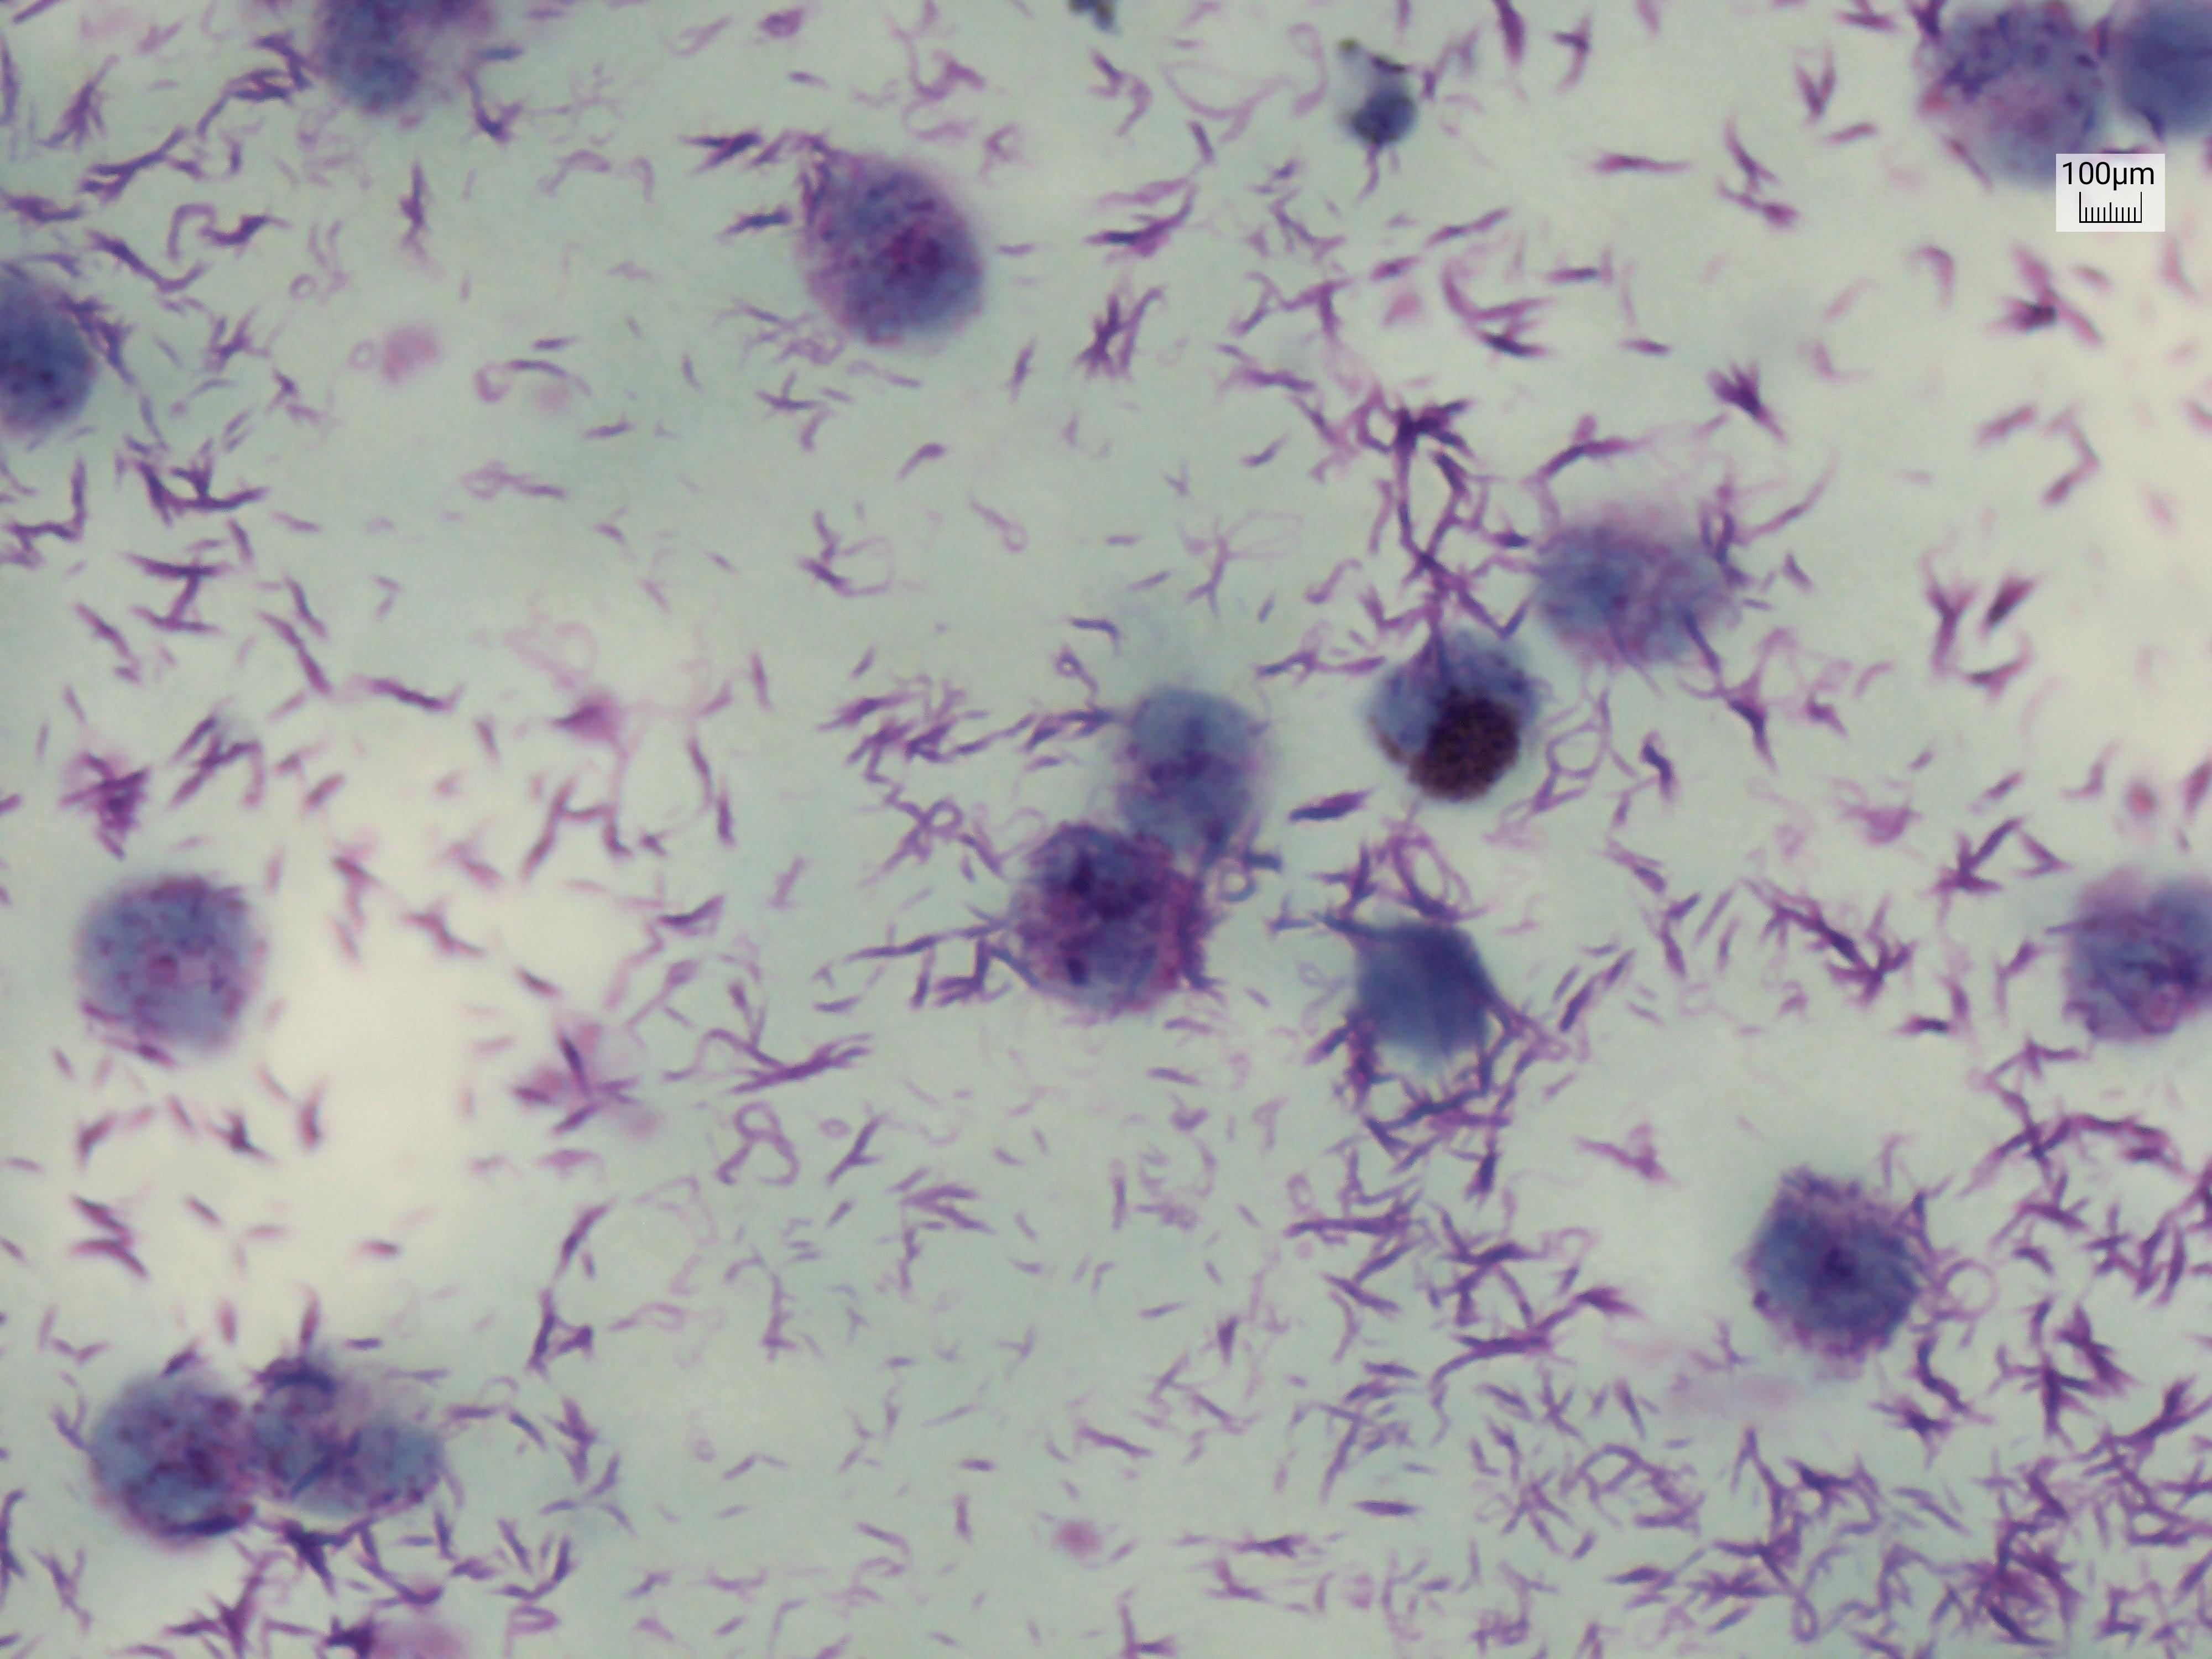p.vivax: (1404, 640, 1550, 852), (1317, 26, 1432, 176)
